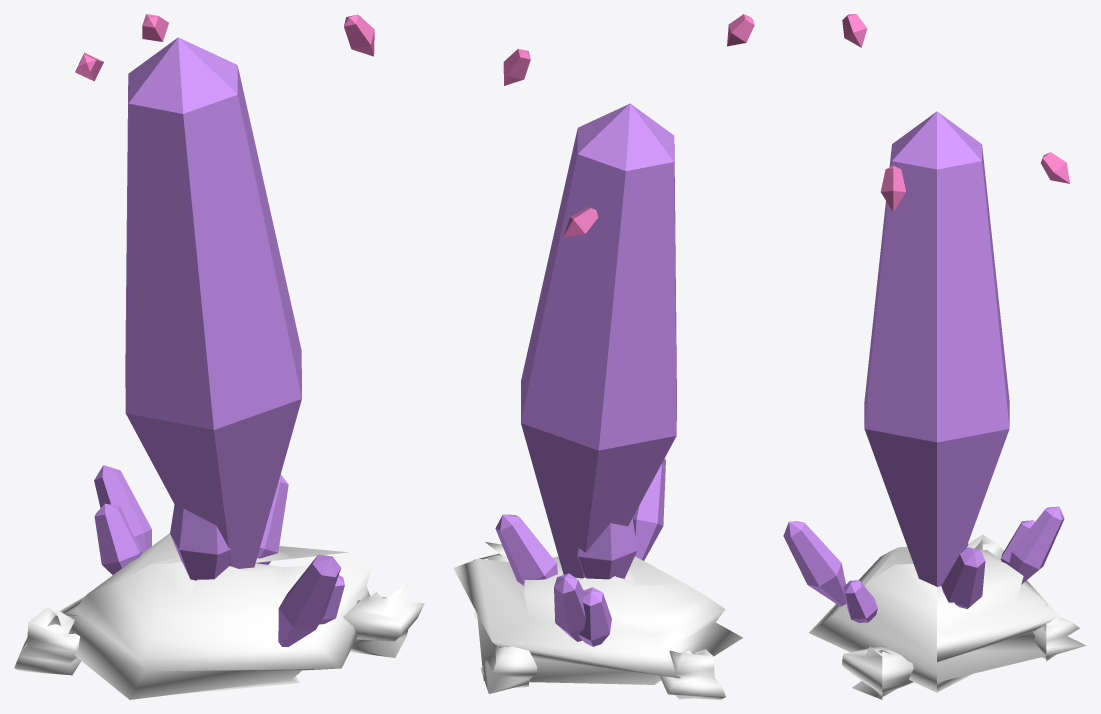
File: ChaosSpire.glb
3 views of the same model, side by side, from view 1: azimuth 30°, elevation 25°; view 2: azimuth 150°, elevation 25°; view 3: azimuth 270°, elevation 25° (orthographic). The views are drawn at different scales.
Parts seen in each view (by area): view 1: Crystal, Body, Core; view 2: Crystal, Body, Core; view 3: Crystal, Body, Core.
Part boxes in pixels (box(x1,y1,x2,y2)): Crystal: box(94, 37, 344, 646); Body: box(14, 533, 424, 699); Core: box(75, 14, 374, 81); Crystal: box(495, 103, 676, 646); Body: box(453, 542, 742, 699); Core: box(503, 14, 754, 237); Crystal: box(783, 111, 1064, 622); Body: box(809, 534, 1086, 699); Core: box(842, 14, 1069, 212).
Bounding box in the file's own units: 18.16 × 34.86 × 16.64.
